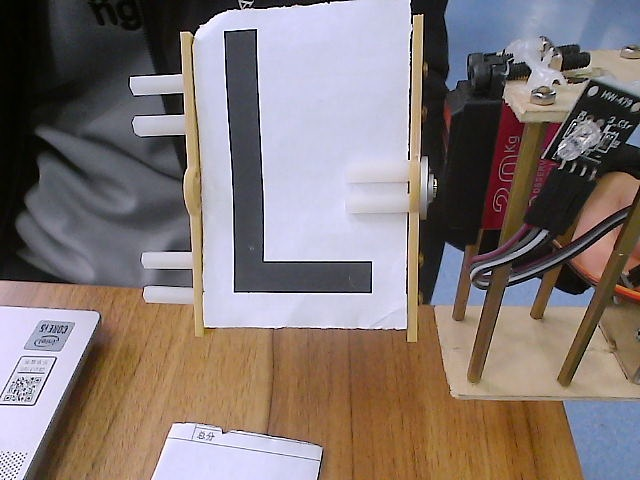L: (116, 1, 461, 360)
